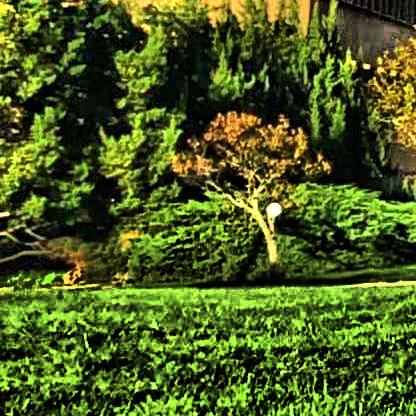golfball: (263, 199, 280, 214)
